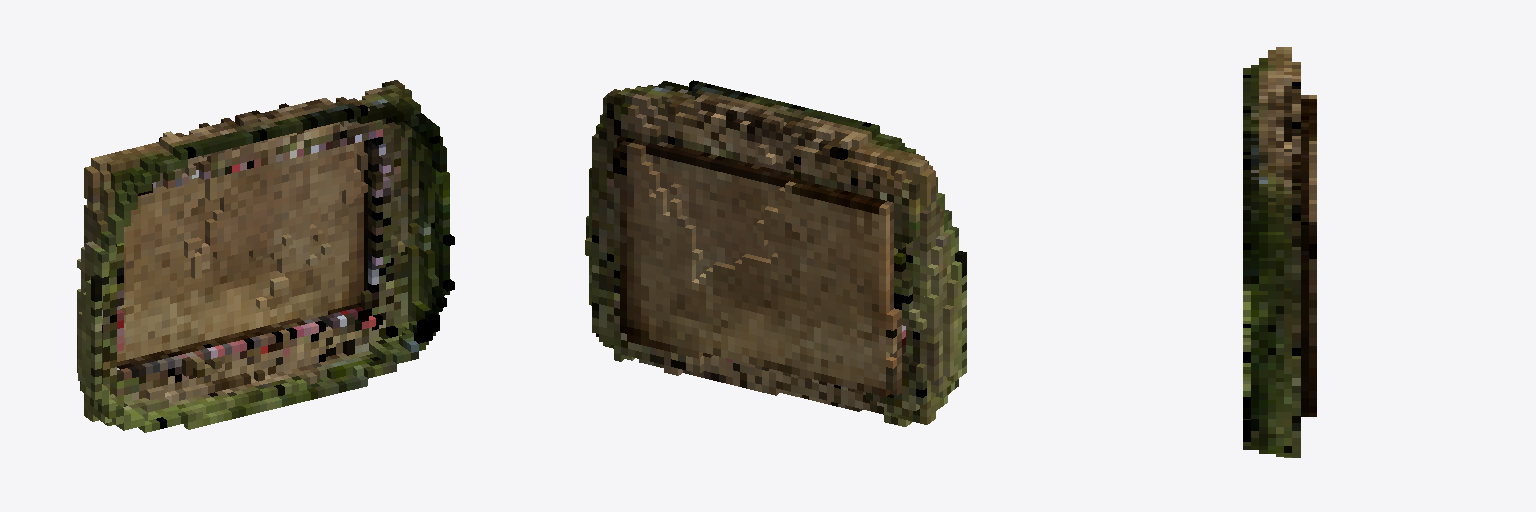
Rendered from posle_pervogo_shtyka_1_50x37x9.obj.
3 views of the same model, side by side, from view 1: azimuth 30°, elevation 25°; view 2: azimuth 150°, elevation 25°; view 3: azimuth 270°, elevation 25° (orthographic).
Size of the model in its own units: 10.2 by 7.55 by 1.84.